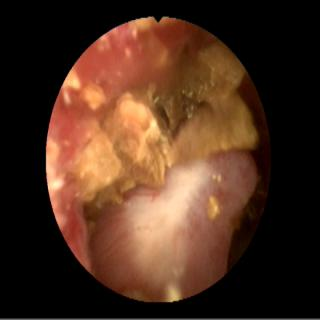stone: (71, 44, 259, 229), (83, 82, 105, 113), (208, 197, 220, 218)
